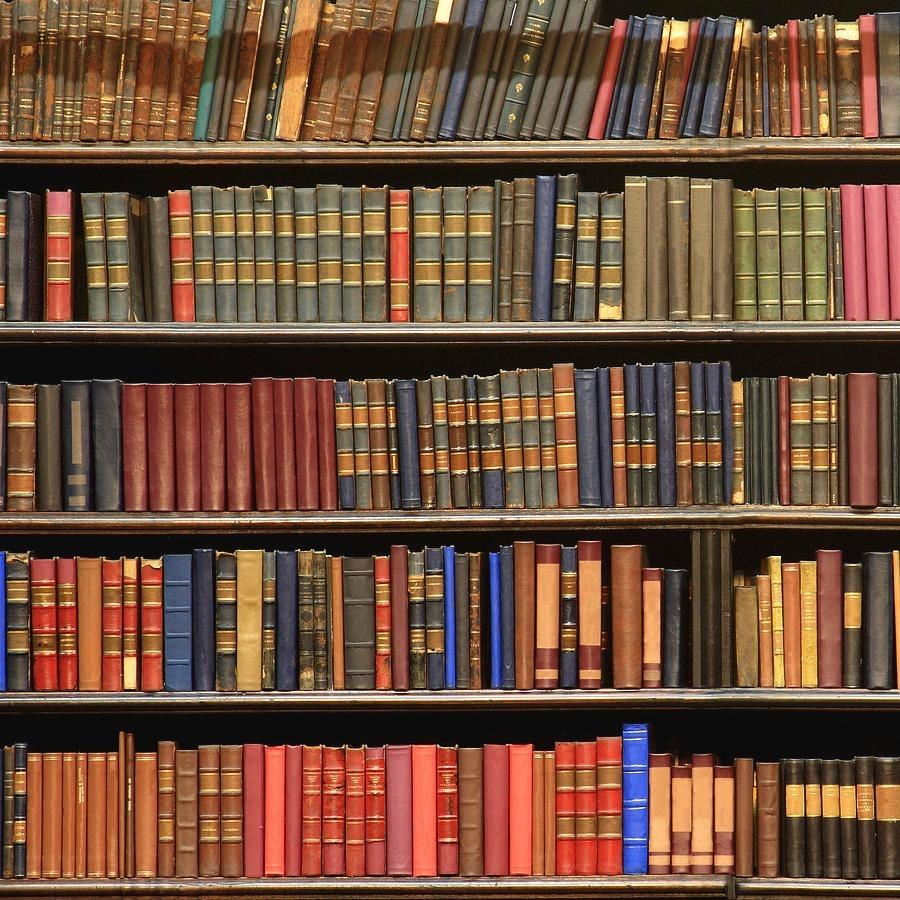book: (532, 3, 592, 138), (455, 3, 512, 139), (495, 4, 553, 137), (408, 2, 458, 138), (353, 3, 400, 141), (327, 2, 374, 138), (379, 2, 424, 136), (299, 2, 343, 138), (225, 2, 269, 137), (678, 16, 721, 138), (605, 15, 647, 139), (691, 530, 724, 685), (260, 1, 296, 137), (205, 2, 241, 137), (610, 543, 643, 690), (5, 189, 41, 322), (179, 4, 213, 140), (654, 17, 692, 138), (846, 372, 879, 510), (342, 556, 374, 694), (862, 552, 894, 689), (91, 378, 123, 513), (60, 381, 92, 515), (162, 553, 192, 692), (142, 193, 174, 323), (5, 383, 37, 511), (43, 187, 73, 321), (577, 540, 603, 691), (862, 184, 891, 319), (622, 724, 648, 874), (149, 3, 177, 141), (96, 2, 124, 139), (116, 2, 144, 139), (12, 1, 40, 138), (236, 551, 263, 693), (103, 192, 132, 324), (413, 187, 441, 323), (535, 544, 561, 690), (816, 550, 843, 690), (840, 184, 868, 319), (553, 363, 579, 508), (394, 380, 423, 510), (467, 185, 494, 323), (30, 557, 57, 695), (385, 745, 413, 877), (293, 377, 320, 513), (35, 383, 63, 514), (531, 176, 557, 317), (596, 737, 622, 876), (832, 17, 862, 137), (147, 383, 174, 515), (225, 382, 252, 514), (199, 383, 226, 515), (76, 556, 102, 693), (174, 383, 201, 514), (6, 550, 31, 691), (81, 191, 108, 321), (59, 2, 85, 137), (121, 382, 147, 515), (168, 190, 194, 323), (666, 177, 690, 321), (552, 176, 576, 320), (362, 187, 387, 325), (317, 185, 342, 323), (690, 179, 714, 322), (191, 549, 215, 692), (411, 744, 437, 876), (442, 186, 467, 323), (79, 2, 104, 139), (482, 745, 508, 876), (251, 378, 276, 513), (756, 189, 781, 323), (802, 187, 827, 321), (272, 380, 297, 514), (294, 185, 318, 323), (211, 185, 235, 323), (514, 542, 536, 692), (599, 192, 624, 324), (645, 177, 668, 320), (508, 744, 533, 875), (623, 176, 646, 318), (712, 179, 735, 321), (512, 179, 535, 321), (779, 187, 803, 323), (191, 187, 215, 322), (253, 185, 276, 324), (574, 191, 598, 324), (574, 739, 597, 876), (275, 550, 297, 693), (873, 757, 899, 878), (140, 558, 163, 694), (733, 191, 757, 320), (341, 184, 363, 324), (175, 744, 198, 877), (458, 748, 482, 875), (124, 195, 148, 322), (274, 185, 296, 323), (220, 744, 243, 876), (663, 568, 688, 689), (875, 12, 900, 133), (655, 362, 676, 506), (37, 3, 59, 139), (101, 557, 123, 693), (389, 189, 411, 325), (56, 558, 78, 694), (733, 573, 759, 688), (316, 378, 338, 513), (215, 552, 236, 693), (811, 376, 833, 510), (134, 745, 156, 877), (198, 744, 220, 876), (424, 546, 444, 691), (789, 375, 811, 506), (704, 362, 724, 505), (323, 746, 345, 876), (364, 747, 386, 876), (782, 760, 806, 878), (554, 742, 575, 876), (390, 545, 409, 693), (756, 760, 780, 876), (855, 758, 878, 879), (559, 543, 578, 689), (243, 745, 264, 877), (301, 745, 322, 876), (691, 753, 714, 872), (596, 366, 615, 510), (842, 561, 863, 691), (263, 746, 284, 876), (436, 746, 457, 876), (674, 362, 693, 505), (639, 364, 658, 507), (345, 747, 366, 876), (642, 568, 664, 691), (624, 364, 643, 506), (648, 752, 670, 874), (765, 555, 785, 689), (407, 549, 426, 690), (42, 751, 63, 875), (670, 756, 692, 874), (820, 760, 842, 878), (782, 560, 802, 689), (733, 759, 755, 876), (732, 19, 754, 136), (609, 365, 627, 507), (858, 14, 879, 135), (296, 551, 314, 692), (689, 364, 707, 505), (876, 372, 895, 505), (496, 180, 514, 319), (812, 15, 833, 134), (799, 560, 818, 690), (284, 746, 303, 876), (374, 556, 392, 693), (717, 361, 734, 506), (86, 752, 106, 875), (312, 549, 329, 691), (763, 22, 784, 136), (713, 760, 734, 874), (838, 760, 858, 878), (453, 552, 470, 690), (804, 760, 824, 876), (122, 557, 139, 693), (499, 546, 515, 689), (25, 752, 43, 879), (261, 553, 277, 691), (12, 743, 28, 879), (442, 546, 457, 691), (329, 558, 345, 692), (61, 752, 78, 875), (796, 18, 814, 134), (468, 553, 483, 689), (829, 187, 844, 319), (105, 746, 120, 877), (488, 554, 502, 691), (123, 732, 136, 875), (2, 746, 16, 877), (531, 751, 546, 873), (777, 378, 791, 504), (787, 20, 802, 134), (543, 750, 557, 872), (749, 29, 763, 137)
